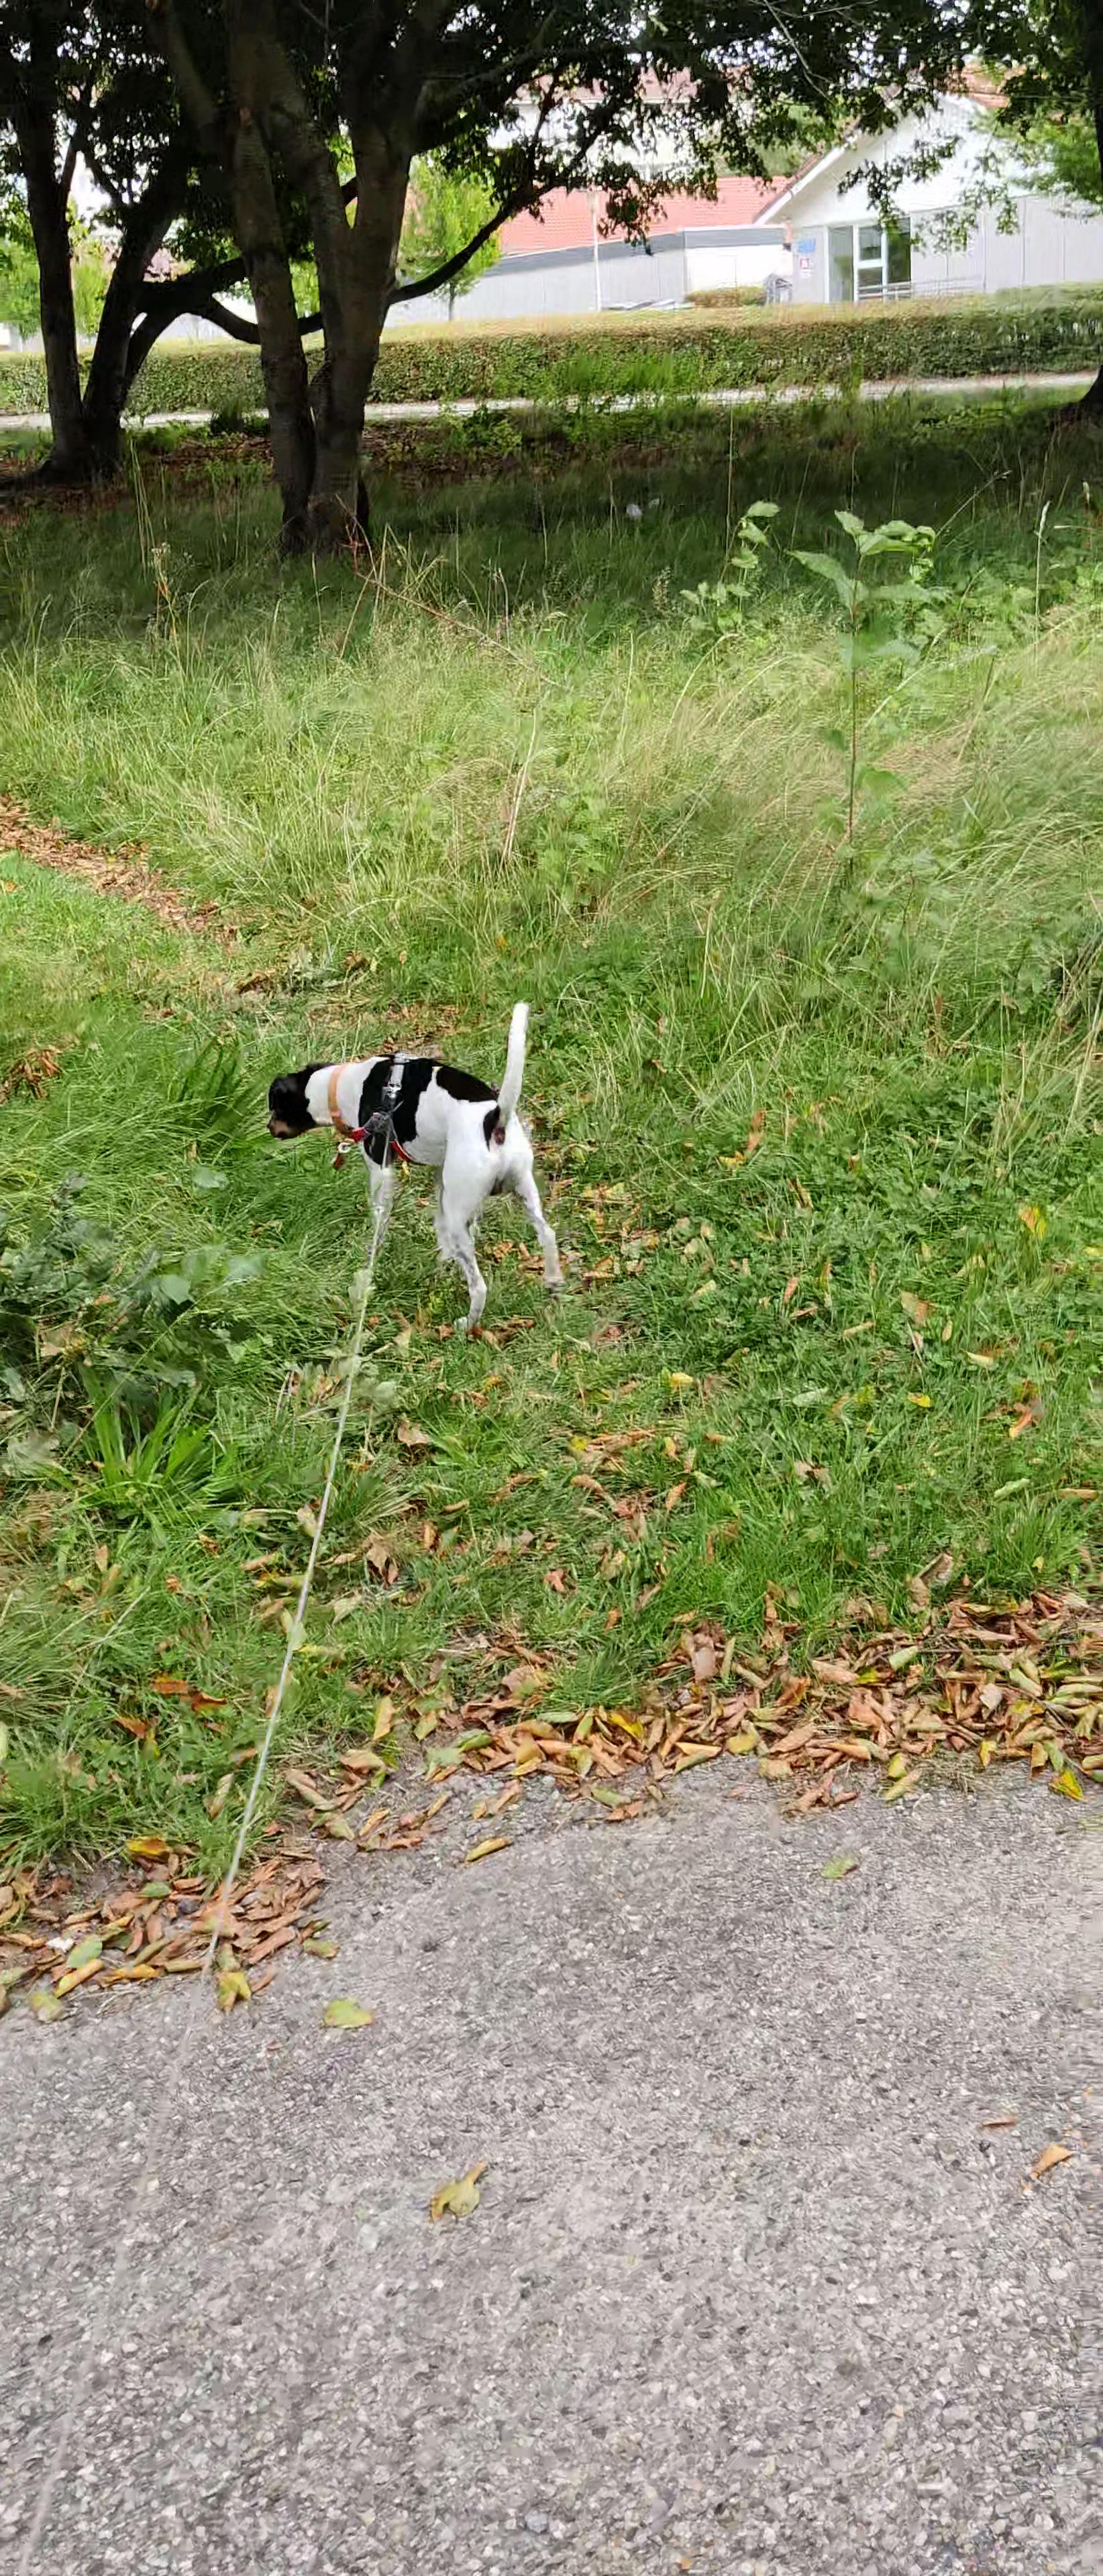Dog: (261, 996, 570, 1327)
